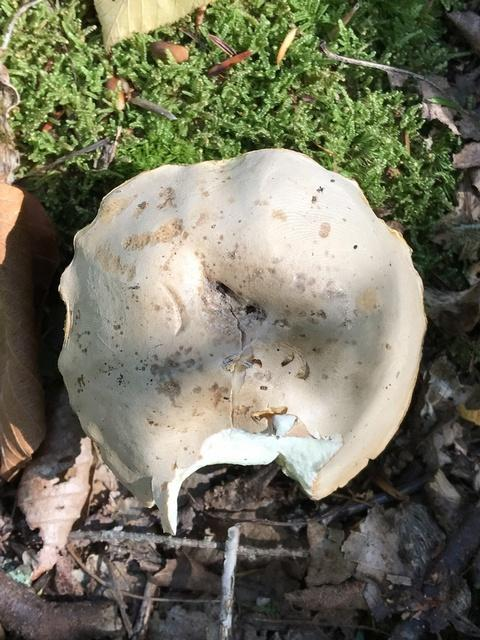edible_mushroom: (55, 146, 428, 535)
